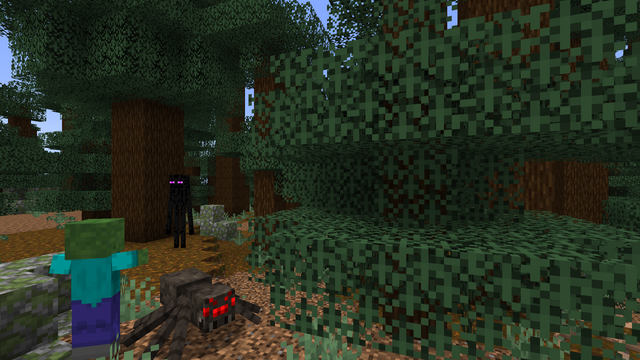araignees: (131, 262, 257, 355)
endermens: (167, 172, 191, 249)
zombies: (59, 220, 130, 359)
